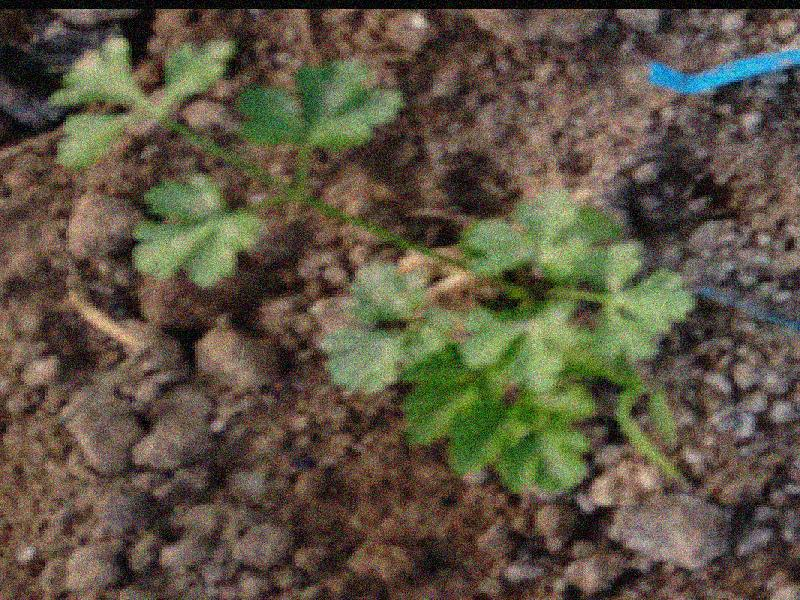radish: (144, 52, 766, 531)
